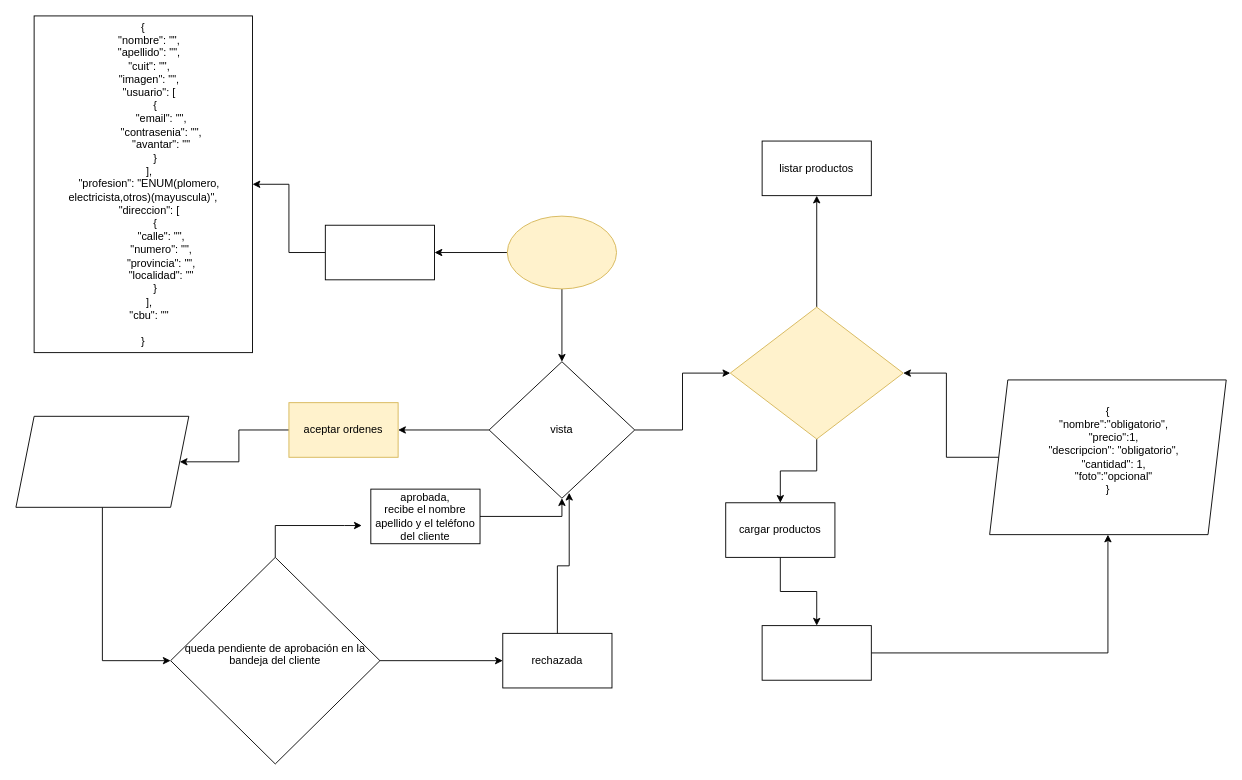
Some shapes in this 1242 by 780 pixel diagram are drawn without their labels. The centre of each missing label's shape, as x and y in pixels:
cargar datos: (x=379, y=252)
nuevo producto: (x=816, y=652)
profesional: (x=561, y=252)
vista del profesional para cargar productos, ver productos cargados: (x=816, y=372)
{ "precio": 1 }: (x=102, y=461)
